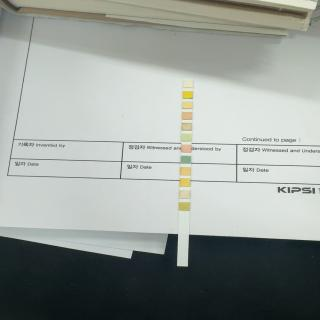mark: (180, 190, 190, 199), (181, 156, 192, 164), (183, 91, 193, 99), (182, 112, 192, 120), (180, 178, 190, 186), (180, 202, 190, 210), (181, 145, 192, 152), (183, 101, 192, 109), (183, 81, 193, 88), (182, 123, 192, 130), (181, 134, 191, 141), (181, 168, 190, 175)
